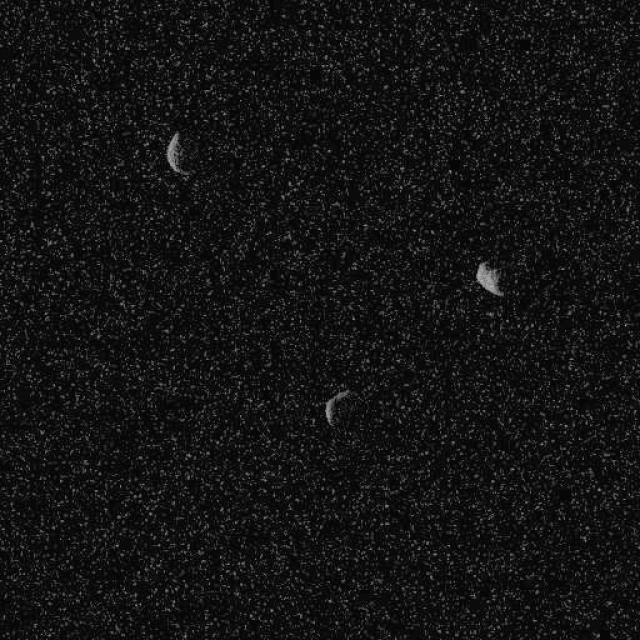D2: (474, 258, 505, 298), (322, 388, 352, 428), (164, 130, 190, 176)
